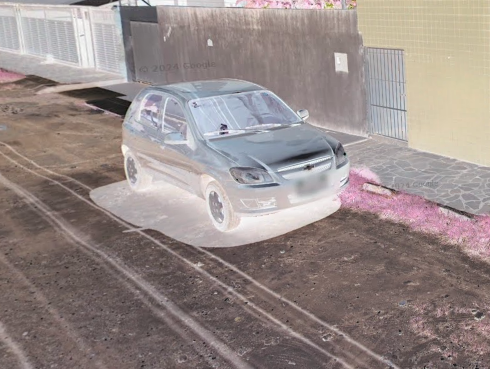car: (119, 76, 351, 234)
